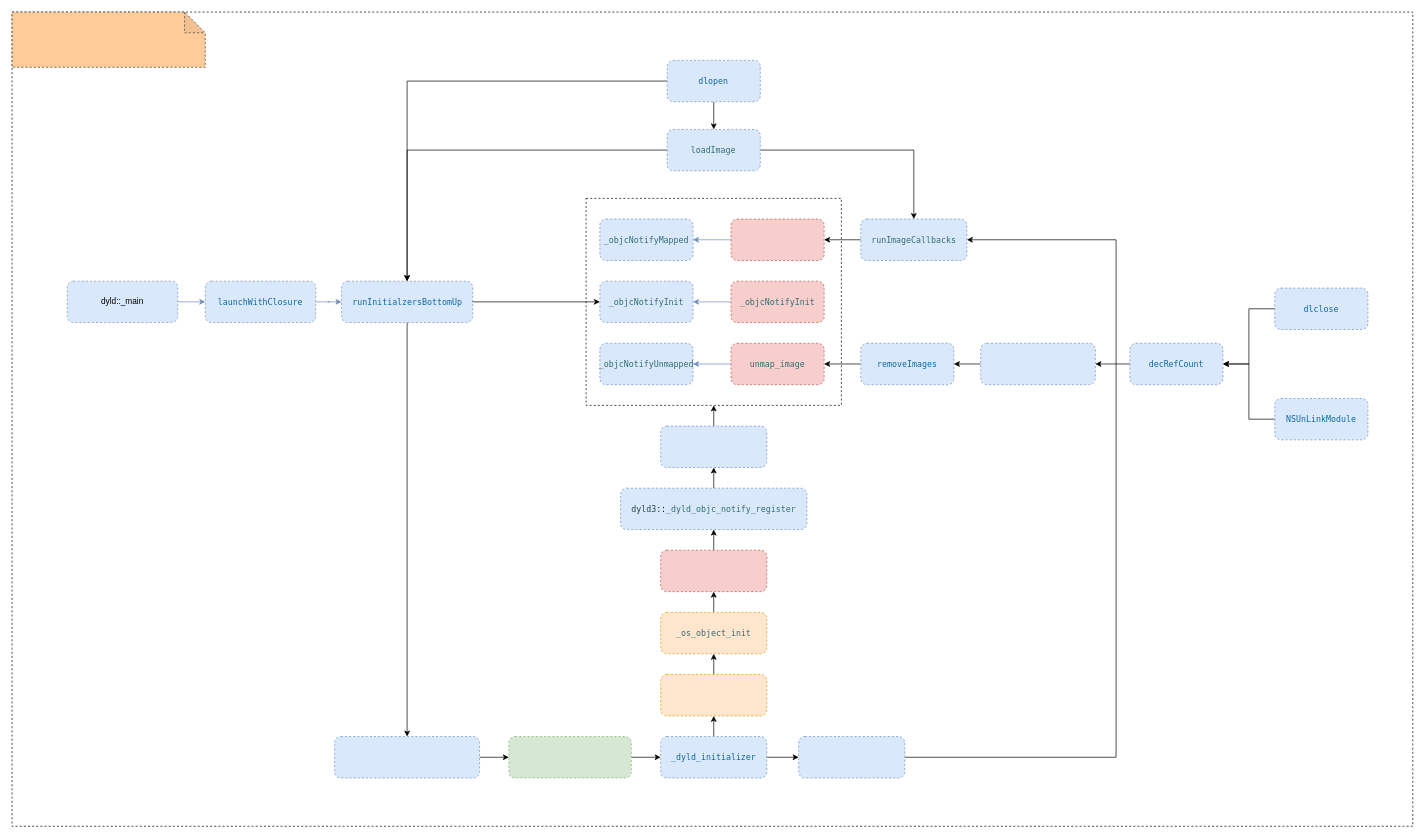
This 1425x838 diagram has some shape labels left out. Each missing label, with the centre of its shape:
_objc_init: (x=713, y=571)
applyInitialImages: (x=851, y=757)
dyld3闭包模式流程图: (x=108, y=39)
garbageCollectImages: (x=1037, y=364)
libdispatch_init: (x=713, y=695)
libSystem_initializer: (x=569, y=757)
map_images: (x=777, y=239)
runAllInitializersInImage: (x=407, y=757)
setObjCNotifiers: (x=713, y=446)
